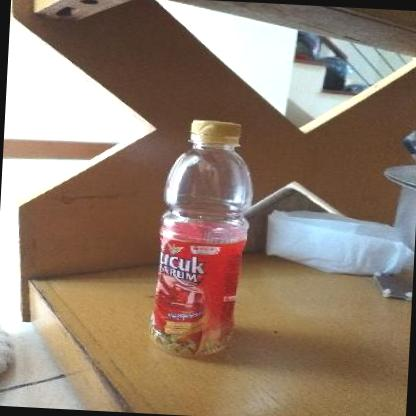plastic_bottles: (148, 116, 261, 366)
